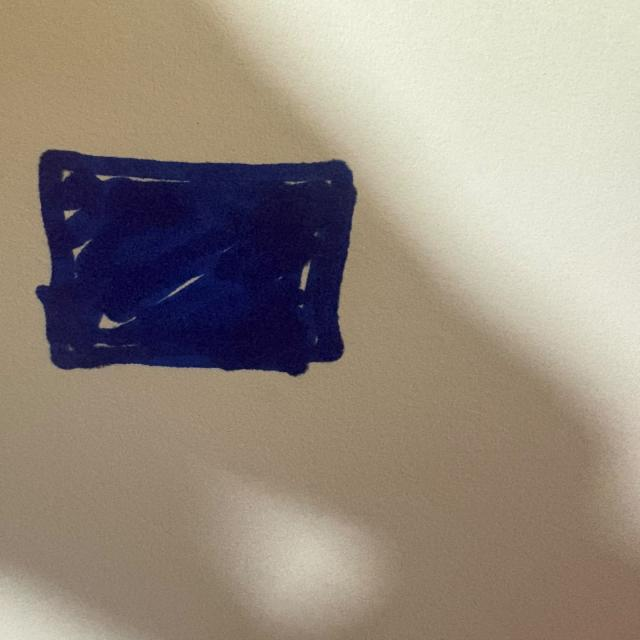Square: (35, 150, 356, 377)
